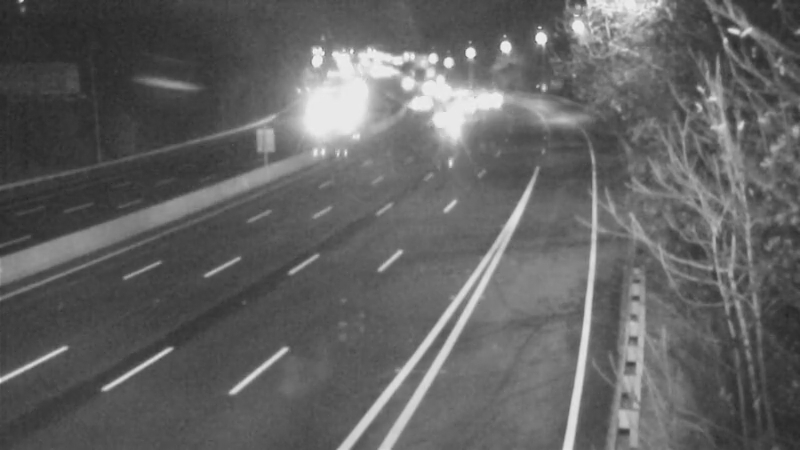vehicle: (396, 81, 446, 131), (459, 71, 509, 121), (436, 77, 486, 127), (423, 93, 473, 143)
